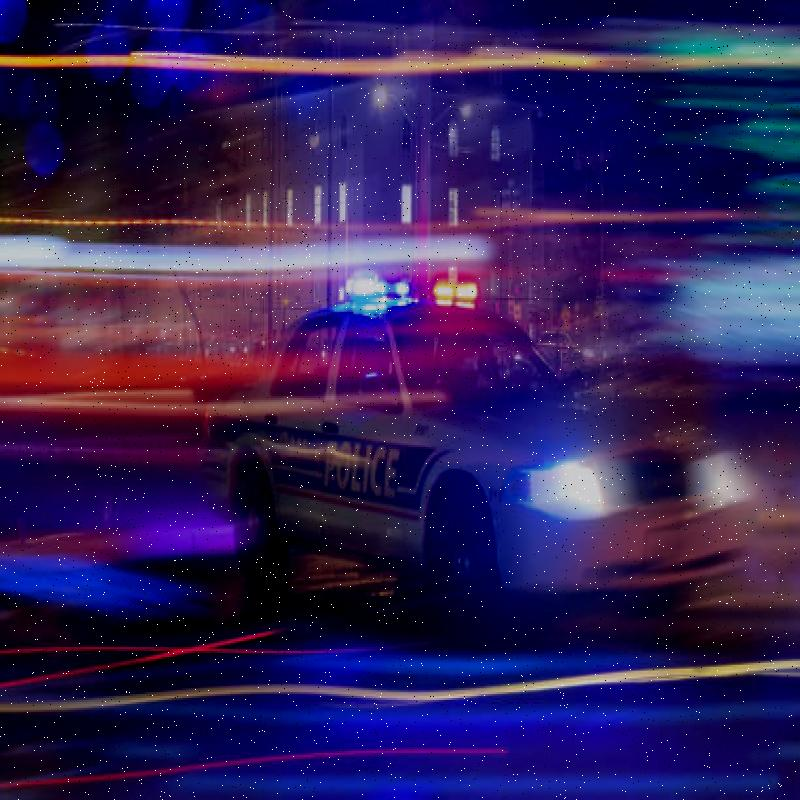AmbulanceSiren: (341, 257, 477, 317)
